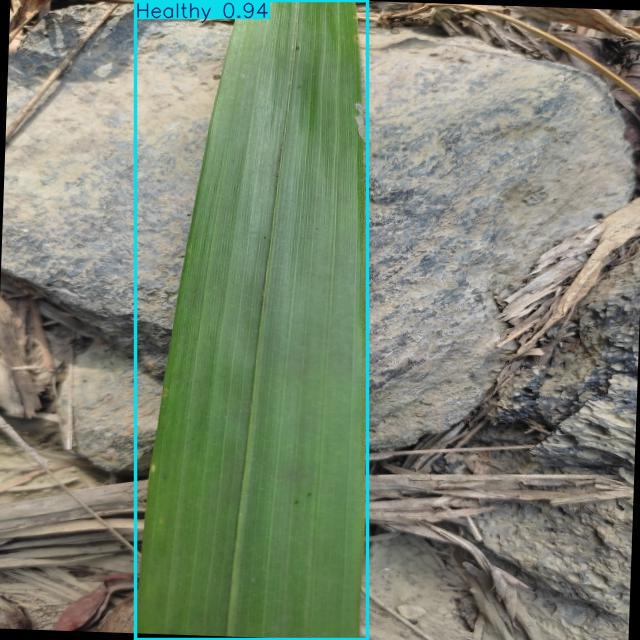Healthy: (136, 1, 367, 640)
